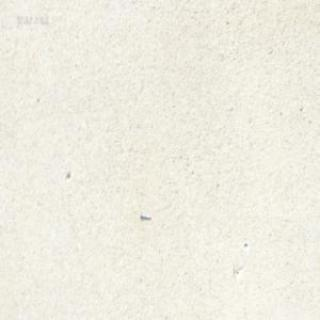Bolttrack_idkeyframe: (152, 241, 187, 259), (132, 215, 135, 216)
